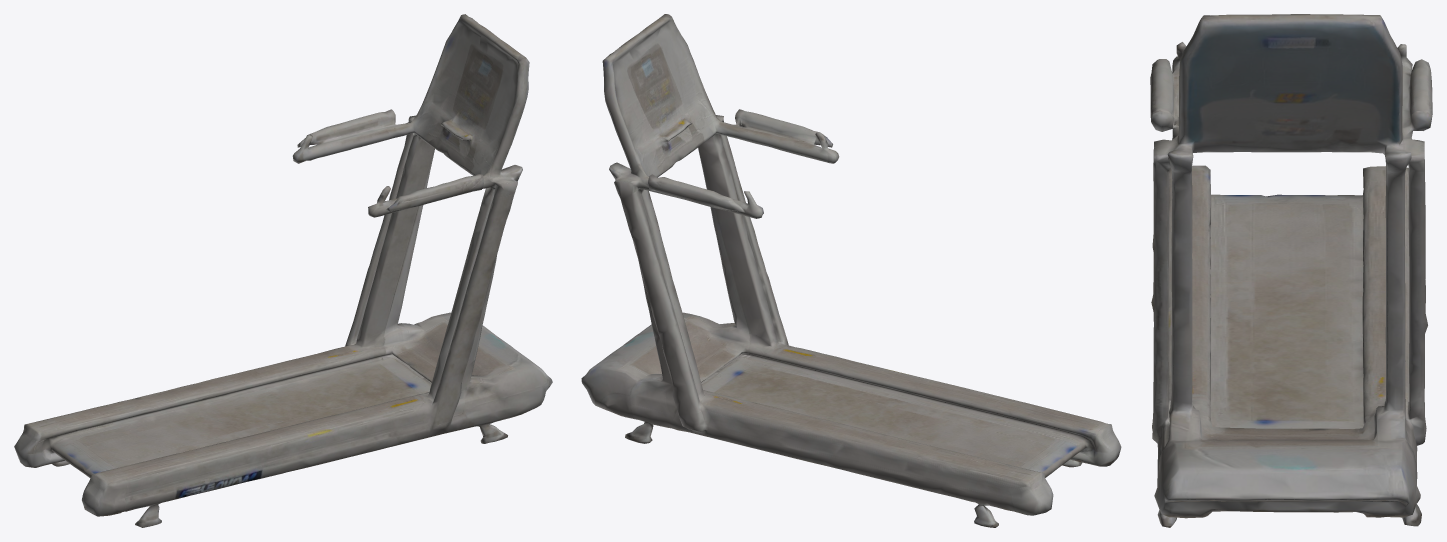
File: model_realistic running machine for gym.glb
3 renders of one model, left to right at view 1: azimuth 30°, elevation 25°; view 2: azimuth 150°, elevation 25°; view 3: azimuth 270°, elevation 25°, orthographic. The views are drawn at different scales.
Parts seen in each view (by area): view 1: file1; view 2: file1; view 3: file1.
Part boxes in pixels (<box>): file1: <box>14,14,552,527</box>; file1: <box>581,14,1121,527</box>; file1: <box>1150,14,1432,527</box>.
Bounding box in the file's own units: 2.01 × 1.51 × 0.7216.
1 material, 1 textured.
